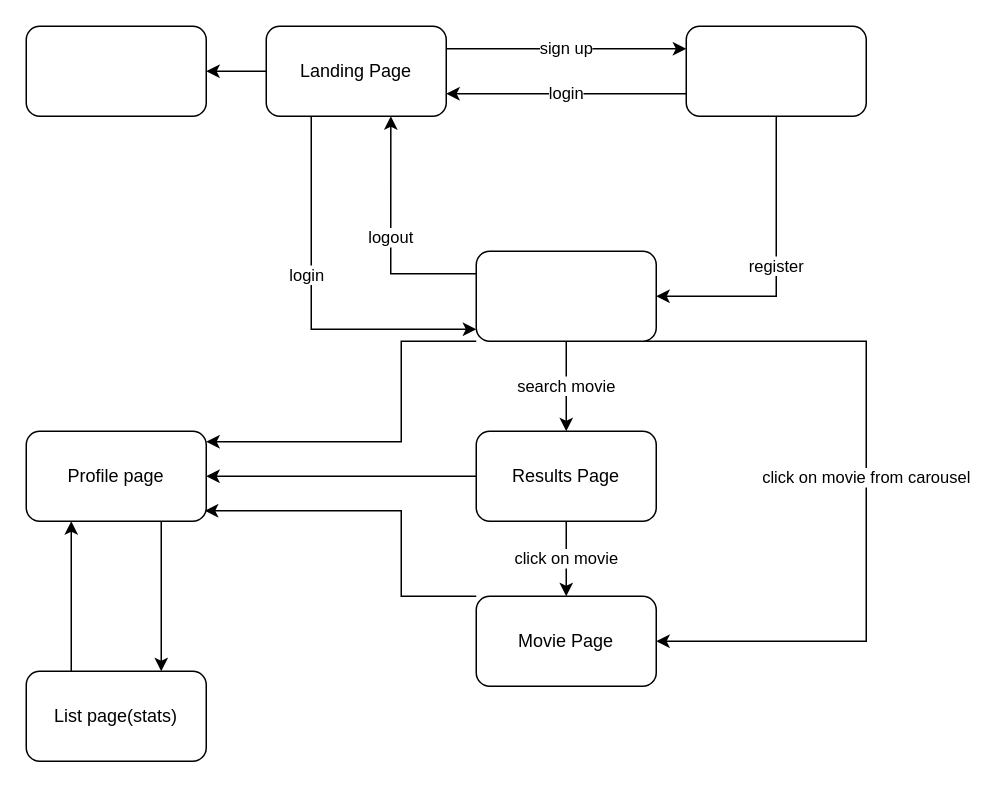
Some shapes in this 996 by 788 pixel diagram are drawn without their labels. The box of each missing label's shape, as (x1, y1, x2, y2) in pixels:
admin: (25, 25, 206, 116)
Search Page: (475, 250, 656, 341)
Sign up Page: (685, 25, 866, 116)
